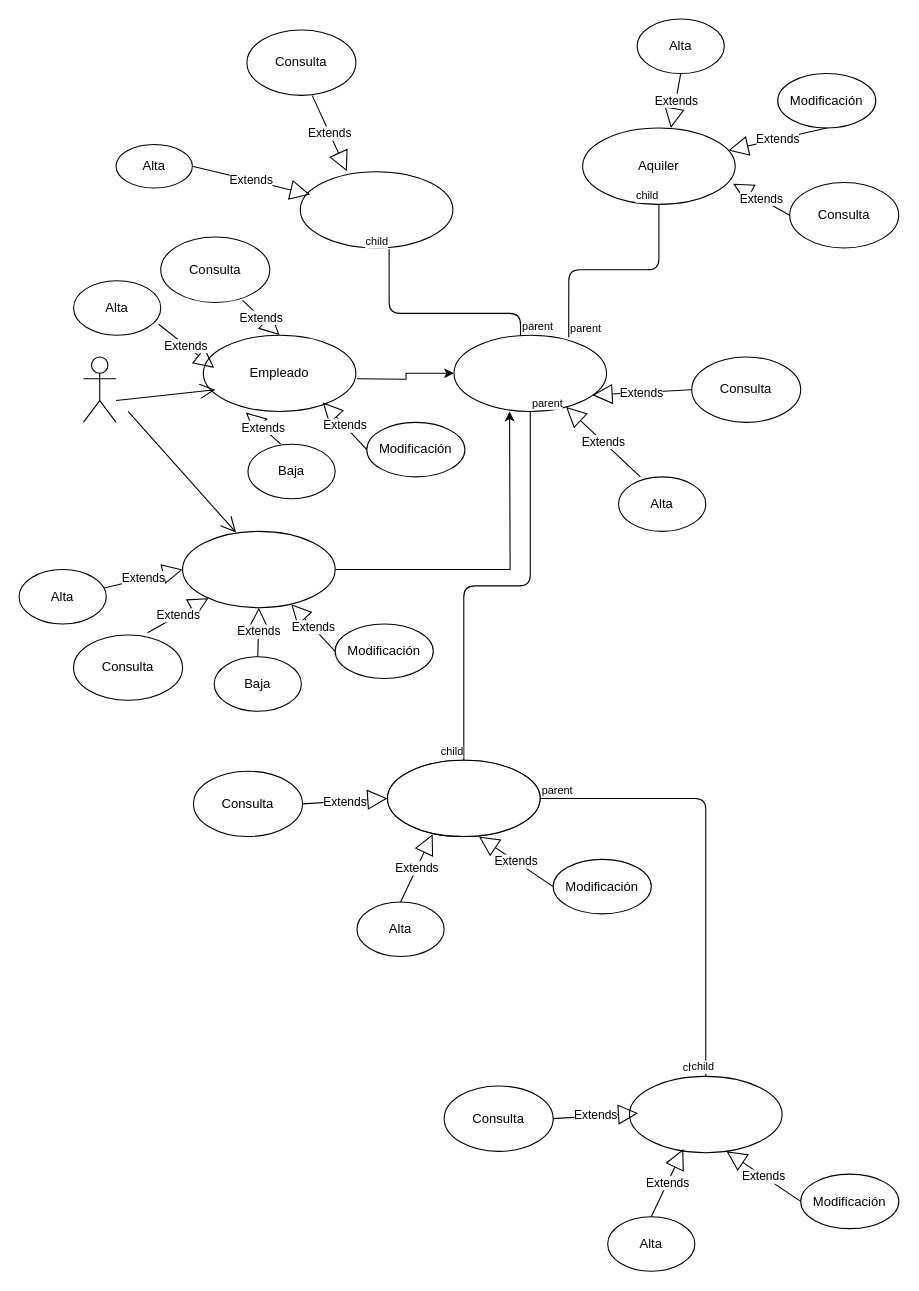
Some shapes in this 919 by 1291 pixel diagram are drawn without their labels. The box of each missing label's shape, as (x1, y1, x2, y2) in pixels:
Cliente: (181, 530, 335, 608)
Coche: (453, 334, 607, 411)
Mantenimiento: (628, 1075, 782, 1153)
Personal: (82, 356, 116, 422)
Taller: (386, 759, 540, 837)
Venta: (299, 171, 453, 248)
